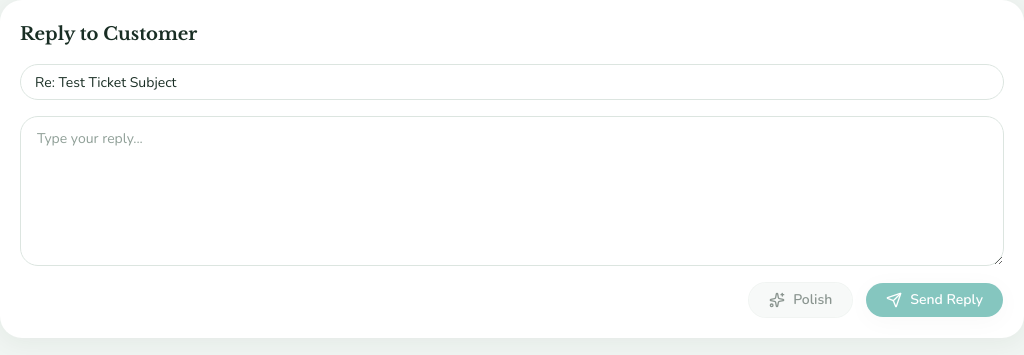
ReplyForm › polishes reply and updates textarea
Expected: the text "Reply to Customer" is shown, left=20, top=23, right=197, bottom=45
Type "Help me with my account" into the text box with placeholder "Type your reply...". click: (512, 191)
box: left=20, top=116, right=1004, bottom=266
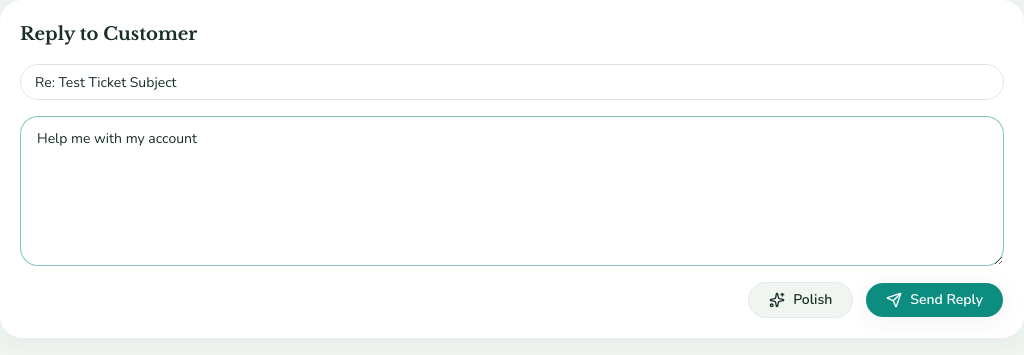
Click the button "Polish". click: (801, 300)
box: left=748, top=282, right=853, bottom=318
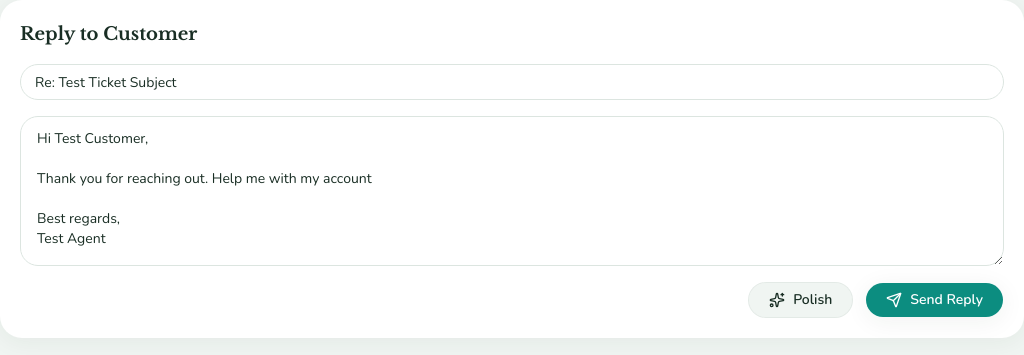
Expected: the text box with placeholder "Type your reply..." does not hold "Help me with my account", left=20, top=116, right=1004, bottom=266
